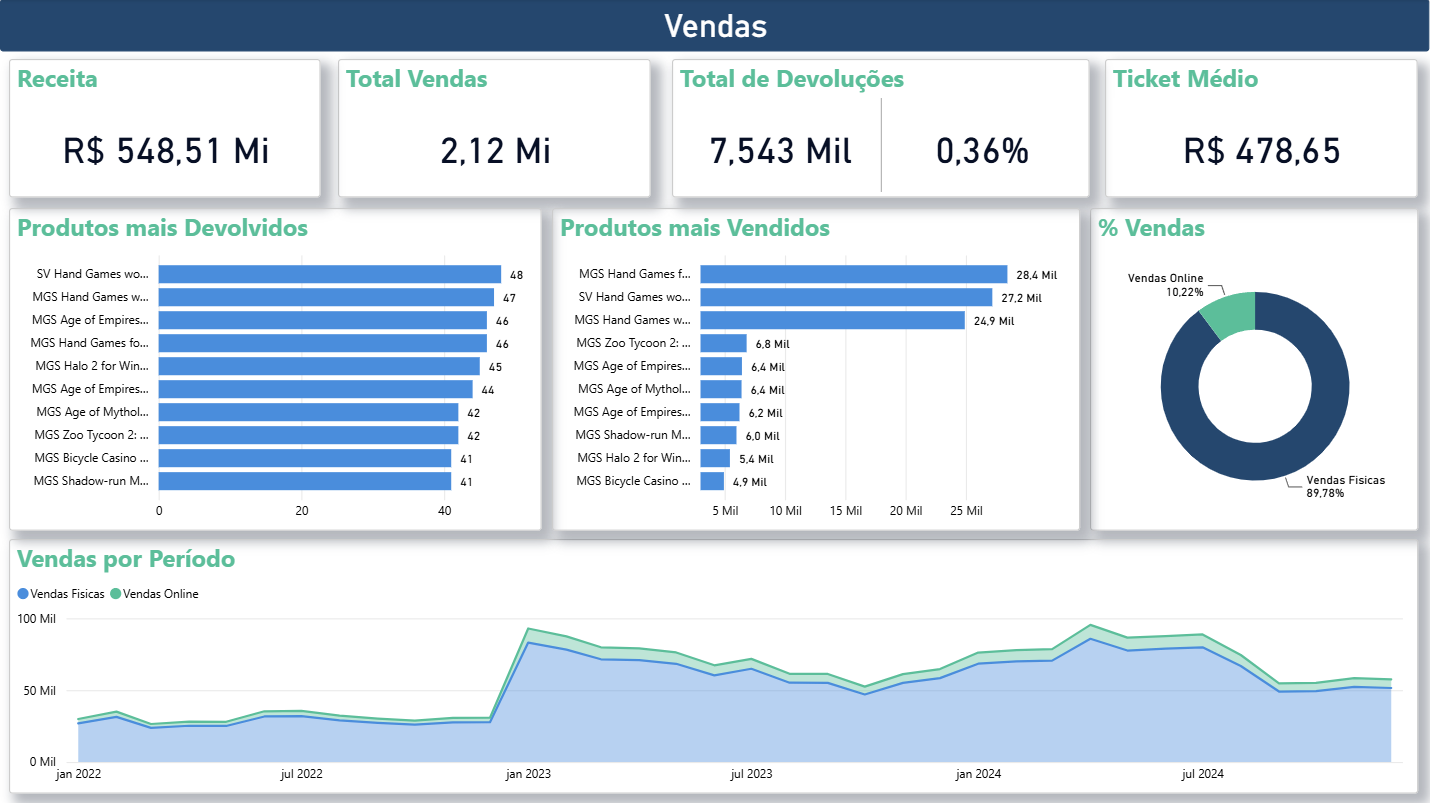

Layout of this report page (visuals, bound fields, positions):
{"tool":"powerbi","page":{"name":"Vendas","canvas":[1280,720],"ordinal":1},"visuals":[{"type":"cardVisual","title":"Total Vendas","fields":{"Data":["Base Vendas.Total Vendas"]},"box":[302.7,53.7,280.3,124.5],"z":0},{"type":"cardVisual","title":"Total de Devoluções","fields":{"Data":["Base Vendas.Total Devoluções","Base Vendas.% Devoluções"]},"box":[601.8,53.7,374.3,124.5],"z":2000},{"type":"cardVisual","title":"Receita","fields":{"Data":["Base Vendas.Fat Total"]},"box":[8.1,53.7,279.4,124.5],"z":3000},{"type":"cardVisual","title":"Ticket Médio","fields":{"Data":["Base Vendas.Ticket Médio"]},"box":[989.6,53.7,280.3,124.5],"z":4000},{"type":"textbox","box":[0,0,1279.7,46.6],"z":5000},{"type":"donutChart","title":"% Vendas","fields":{"Y":["Base Vendas.Vendas Fisicas","Base Vendas.Vendas Online"]},"box":[976.1,187.2,293.7,289.3],"z":6000},{"type":"clusteredBarChart","title":"Produtos mais Devolvidos","fields":{"Category":["Cadastro Produtos.Nome Produto"],"Y":["Base Vendas.Total Devoluções"]},"box":[8.1,187.2,477.3,289.3],"z":7000},{"type":"stackedAreaChart","title":"Vendas por Período","fields":{"Category":["Base Vendas.Data Venda.Variation.Hierarquia de datas.Ano","Base Vendas.Data Venda.Variation.Hierarquia de datas.Mês"],"Y":["Base Vendas.Vendas Fisicas","Base Vendas.Vendas Online"]},"box":[8.1,483.6,1261.8,228.4],"z":8000},{"type":"clusteredBarChart","title":"Produtos mais Vendidos","fields":{"Category":["Cadastro Produtos.Nome Produto"],"Y":["Base Vendas.Total Vendas"]},"box":[494.3,187.2,472.8,289.3],"z":9000}]}

Visuals, with their boxes in screenshot pixels (x1, y1, x2, y2), scaled from the page's 1280x720 canvas onto the 1430x803 screenshot:
"Total Vendas" cardVisual: 338, 60, 651, 199
"Total de Devoluções" cardVisual: 672, 60, 1090, 199
"Receita" cardVisual: 9, 60, 321, 199
"Ticket Médio" cardVisual: 1106, 60, 1419, 199
textbox: 0, 0, 1429, 52
"% Vendas" donutChart: 1090, 209, 1419, 531
"Produtos mais Devolvidos" clusteredBarChart: 9, 209, 542, 531
"Vendas por Período" stackedAreaChart: 9, 539, 1419, 794
"Produtos mais Vendidos" clusteredBarChart: 552, 209, 1080, 531
